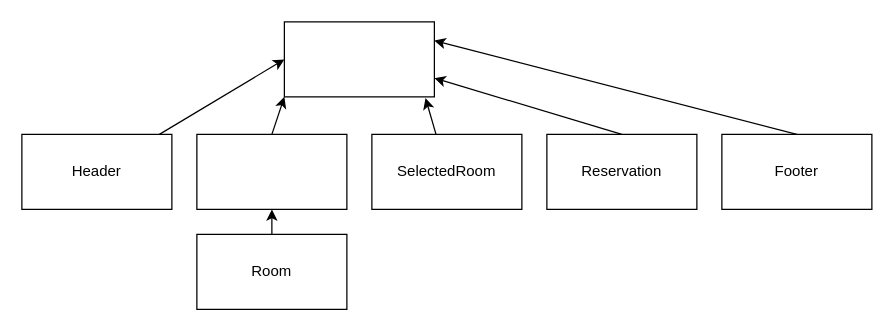
This 894x331 diagram has some shape labels left out. The centre of each missing label's shape, as x and y in pixels:
"Main" goes at pixel 358 59.
"Rooms" goes at pixel 271 171.
